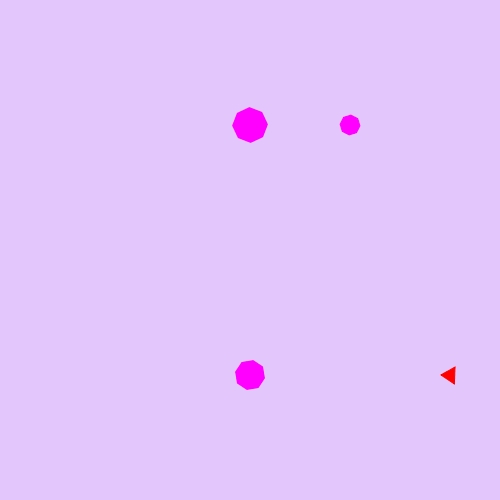octagon: (228, 103, 272, 147), (231, 356, 270, 395), (335, 110, 365, 140)
triangle: (438, 362, 463, 388)
